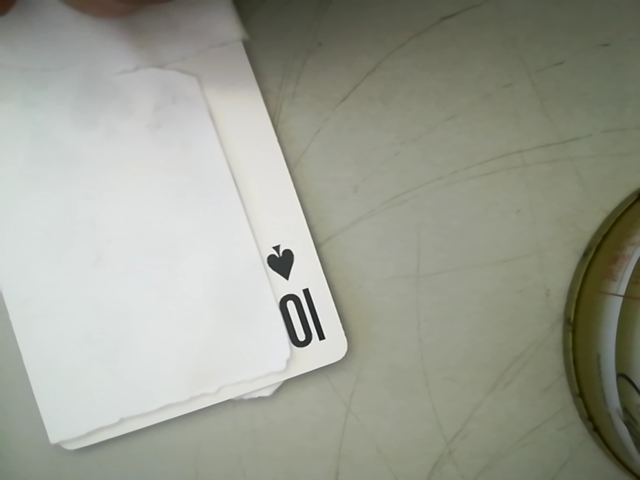ht 10: (258, 232, 331, 368)
